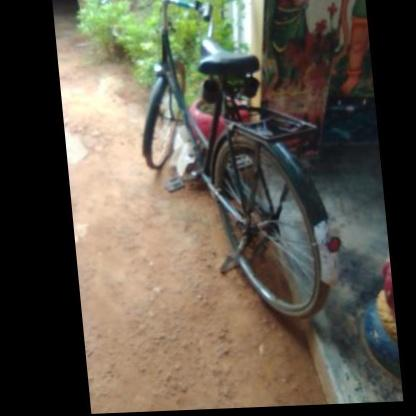Bicycle: (114, 0, 344, 330)
